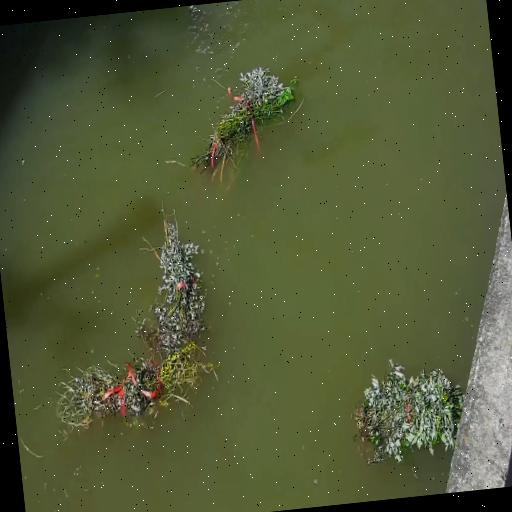twig: (52, 336, 220, 436), (172, 60, 307, 182), (346, 350, 470, 480), (134, 204, 213, 355)
